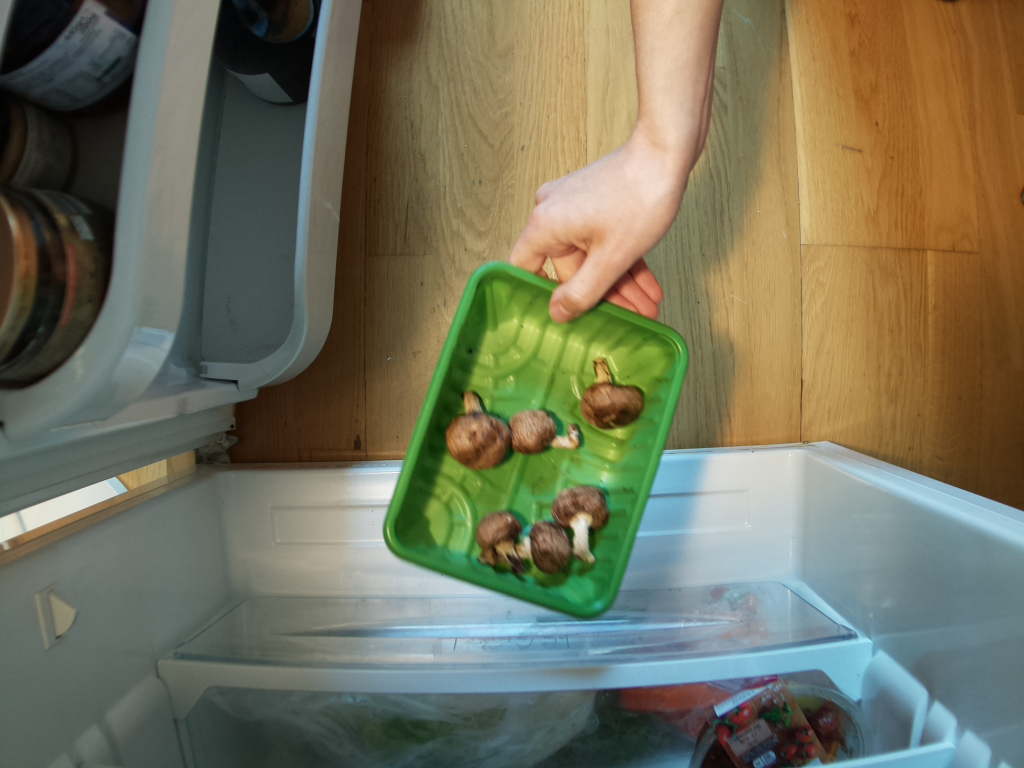mushrooms-bad: (385, 263, 687, 616)
